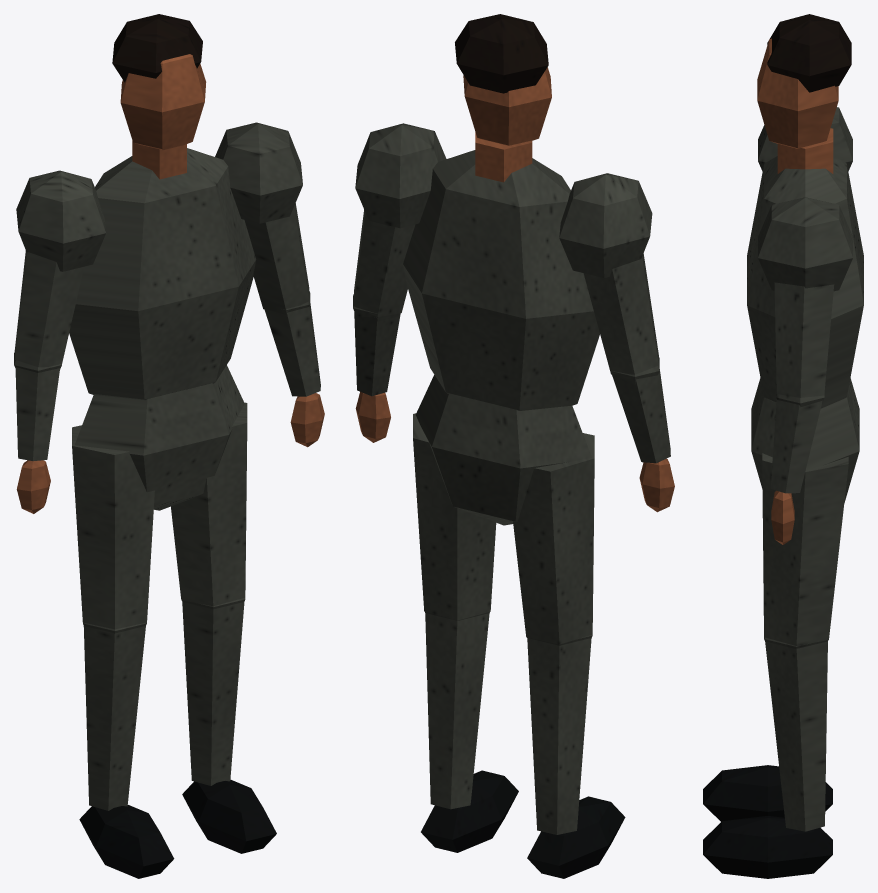
File: PROP-6F42EC224460_lod2.glb
3 views of the same model, side by side, from view 1: azimuth 30°, elevation 25°; view 2: azimuth 150°, elevation 25°; view 3: azimuth 270°, elevation 25° (orthographic). The views are drawn at different scales.
Visible parts, largest first — view 1: torso.043, thigh.042, calf.042, shoulder.043, pelvis.042, upper_arm.043, shoe.042, forearm.043, head.042, hair_cap.042, hand.042, neck.042; view 2: torso.043, thigh.042, calf.042, shoulder.043, pelvis.042, upper_arm.043, shoe.042, forearm.043, hair_cap.042, head.042, hand.042, neck.042 (+1 smaller); view 3: thigh.042, torso.043, shoe.042, calf.042, shoulder.043, upper_arm.043, hair_cap.042, head.042, pelvis.042, forearm.043, neck.042, hand.042 (+1 smaller).
Boxes of the visible parts, bbox=[...] form: torso.043: bbox=[69, 148, 256, 400]; thigh.042: bbox=[72, 402, 247, 629]; calf.042: bbox=[83, 602, 244, 810]; shoulder.043: bbox=[16, 122, 302, 271]; pelvis.042: bbox=[75, 365, 244, 510]; upper_arm.043: bbox=[14, 203, 309, 367]; shoe.042: bbox=[79, 779, 276, 878]; forearm.043: bbox=[15, 303, 320, 461]; head.042: bbox=[120, 54, 206, 150]; hair_cap.042: bbox=[112, 14, 202, 82]; hand.042: bbox=[16, 393, 324, 513]; neck.042: bbox=[132, 140, 186, 179]; torso.043: bbox=[403, 150, 599, 410]; thigh.042: bbox=[413, 413, 594, 644]; calf.042: bbox=[425, 613, 591, 834]; shoulder.043: bbox=[355, 123, 652, 277]; pelvis.042: bbox=[415, 375, 591, 525]; upper_arm.043: bbox=[353, 209, 658, 374]; shoe.042: bbox=[421, 770, 625, 878]; forearm.043: bbox=[354, 312, 670, 463]; hair_cap.042: bbox=[455, 14, 548, 93]; head.042: bbox=[463, 67, 551, 145]; hand.042: bbox=[355, 391, 674, 512]; neck.042: bbox=[475, 132, 532, 182]; thigh.042: bbox=[762, 453, 848, 645]; torso.043: bbox=[747, 156, 863, 408]; shoe.042: bbox=[703, 765, 832, 878]; calf.042: bbox=[765, 641, 827, 831]; shoulder.043: bbox=[758, 107, 852, 291]; upper_arm.043: bbox=[774, 282, 834, 397]; hair_cap.042: bbox=[767, 14, 851, 92]; head.042: bbox=[757, 38, 838, 148]; pelvis.042: bbox=[751, 378, 859, 502]; forearm.043: bbox=[771, 399, 822, 493]; neck.042: bbox=[777, 128, 833, 173]; hand.042: bbox=[771, 490, 794, 544].
Size of the model in its own units: 0.72 by 1.84 by 0.3218.
4 materials, 4 textured.
